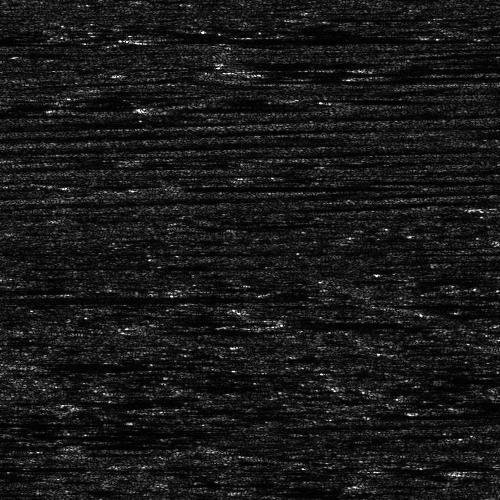rock: (112, 182, 195, 191), (431, 465, 500, 474), (209, 58, 272, 67), (138, 103, 201, 112), (454, 202, 500, 213), (0, 292, 36, 305), (111, 35, 164, 40)
shadow: (0, 292, 233, 305), (241, 58, 500, 67), (154, 182, 378, 191), (138, 35, 474, 40), (170, 103, 284, 112), (0, 462, 31, 473), (468, 465, 500, 474), (0, 287, 66, 290)
